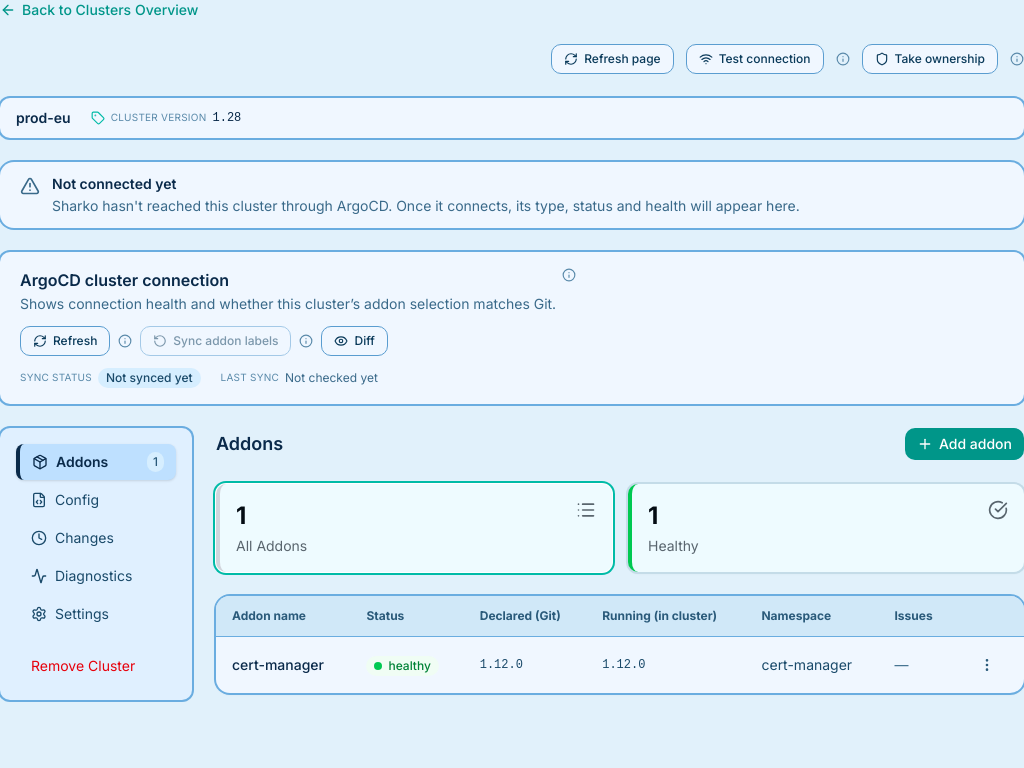
it: ClusterDetail — v4 enable routing › v3 repo (default / getRepoStatus unset or false): clicking an addon stages it in the v3 pending strip, no v4 dialog
Click the button with test id "manage-addons-enable-btn" at point(964, 444), box [905,428,1023,460]
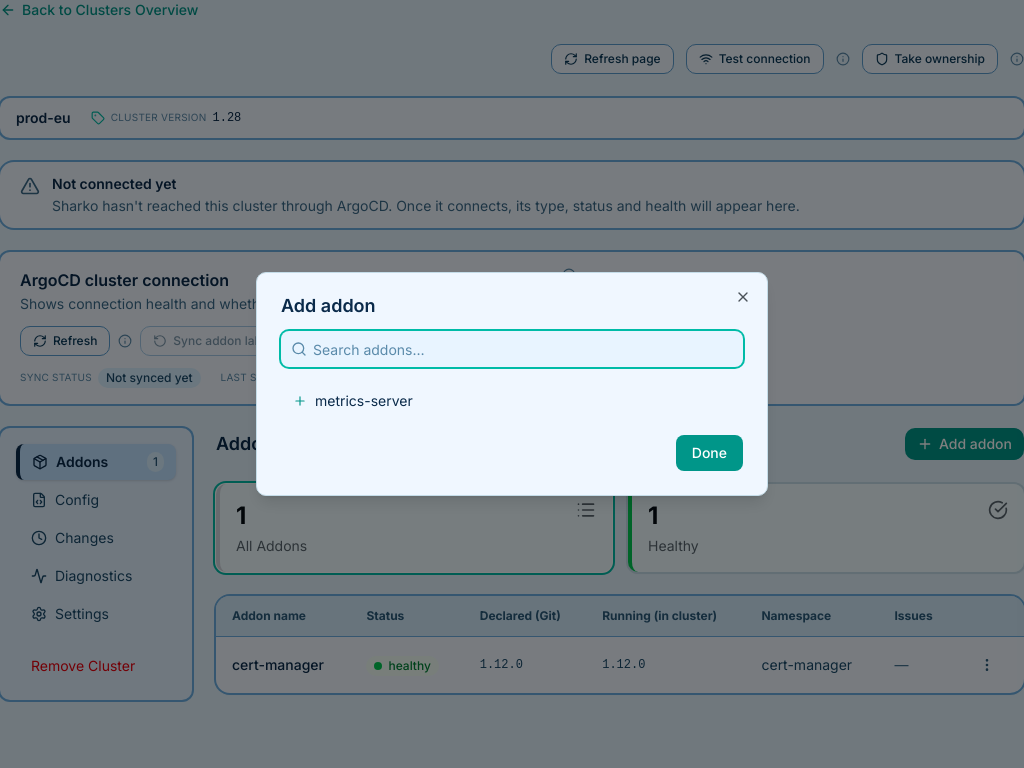
Result: the button with test id "addon-picker-item-metrics-server" is shown
Click the button with test id "addon-picker-item-metrics-server" at point(364, 400), box [281,383,743,419]
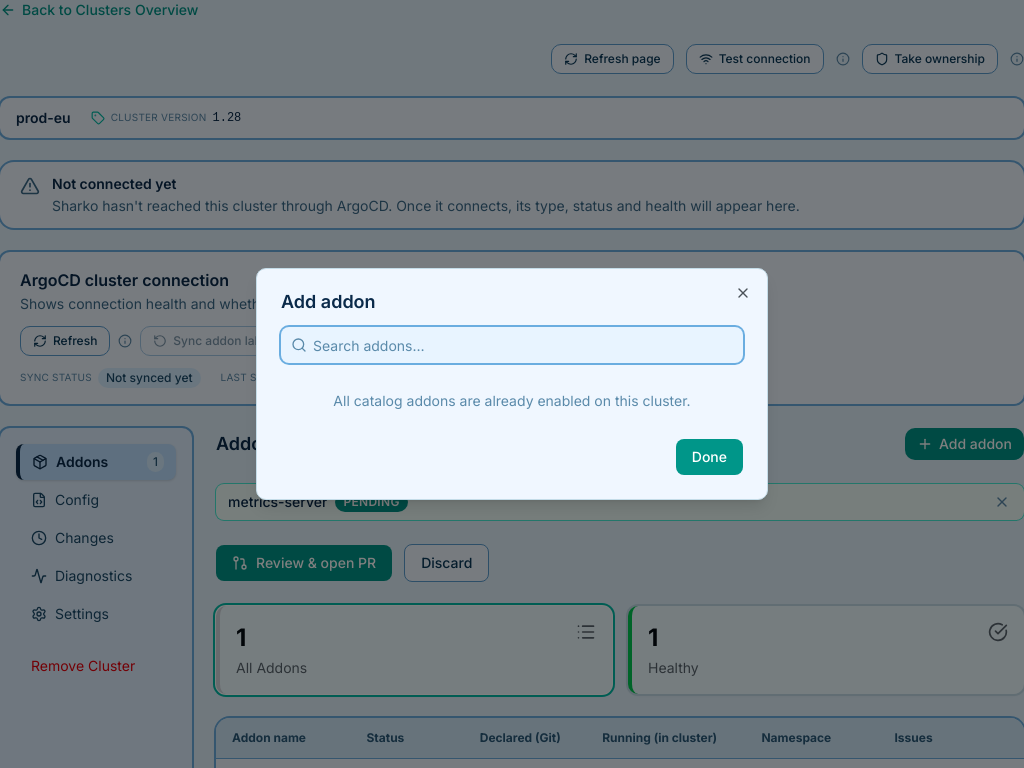
Result: the text "pending" is shown at [335,492,408,512]
